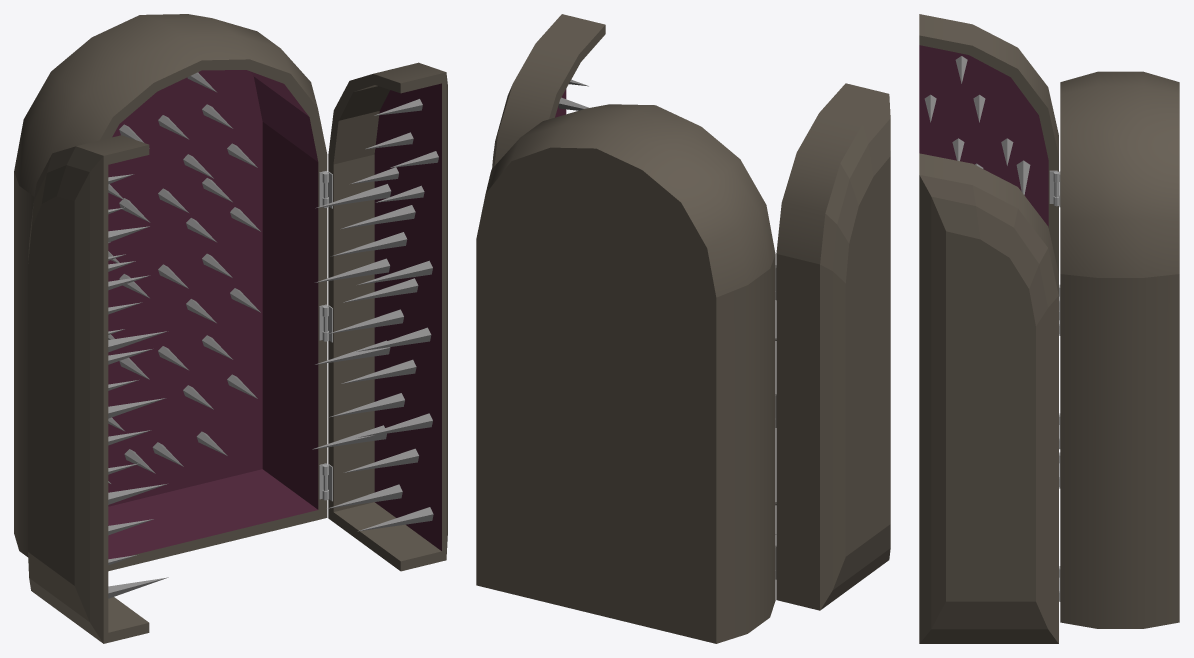
Rendered from DoncelladeHierro.fbx.
3 renders of one model, left to right at view 1: azimuth 30°, elevation 25°; view 2: azimuth 150°, elevation 25°; view 3: azimuth 270°, elevation 25°, orthographic. The views are drawn at different scales.
Visible parts, largest first — view 1: polySurface317, polySurface297; view 2: polySurface317; view 3: polySurface317, polySurface297.
Part boxes in pixels (x1=…): polySurface317: x1=14, y1=14, x2=447, y2=643; polySurface297: x1=108, y1=72, x2=438, y2=598; polySurface317: x1=476, y1=14, x2=890, y2=643; polySurface317: x1=919, y1=14, x2=1179, y2=643; polySurface297: x1=924, y1=56, x2=1060, y2=601.
Bounding box in the file's own units: 3.71 × 4.72 × 2.33.
